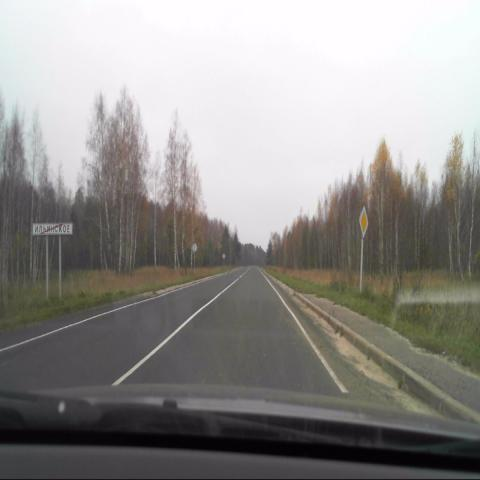2_1: (358, 207, 368, 238)
